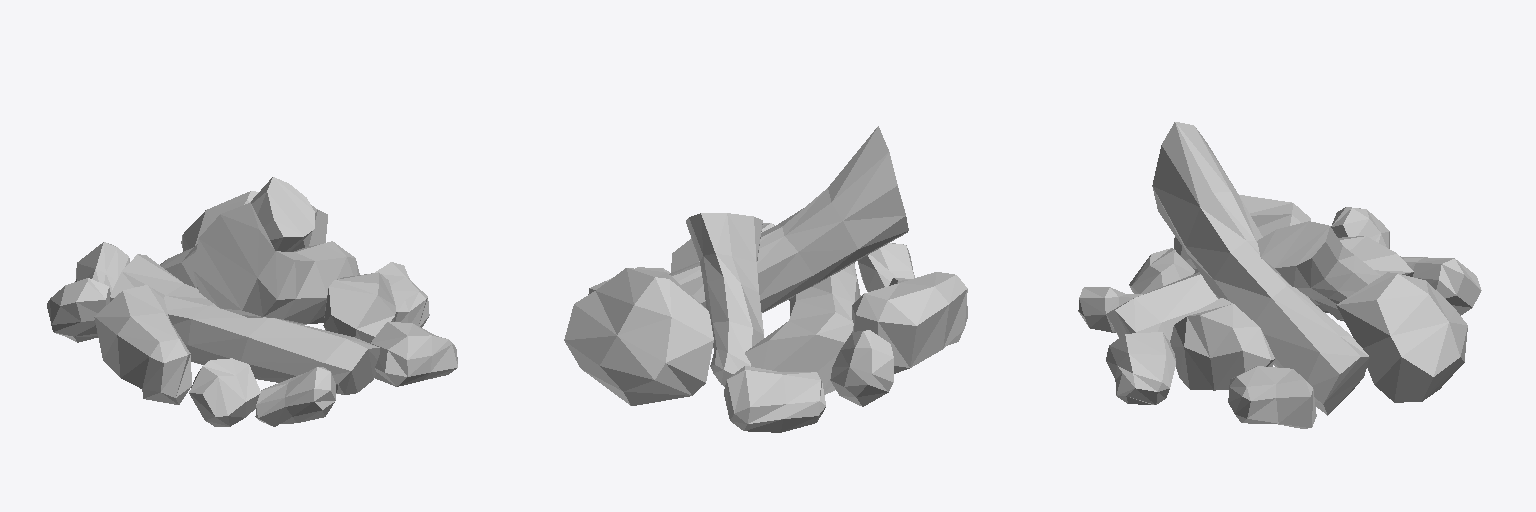
Rendered from pit.obj.
3 renders of one model, left to right at view 1: azimuth 30°, elevation 25°; view 2: azimuth 150°, elevation 25°; view 3: azimuth 270°, elevation 25°, orthographic.
Parts seen in each view (by area): view 1: mesh_id31; view 2: mesh_id31; view 3: mesh_id31.
Boxes of the visible parts, x1,y1,x2,y2 form: mesh_id31: [47, 177, 457, 426]; mesh_id31: [564, 126, 967, 432]; mesh_id31: [1078, 122, 1481, 428].
Size of the model in its own units: 0.512 by 0.3147 by 0.5419.